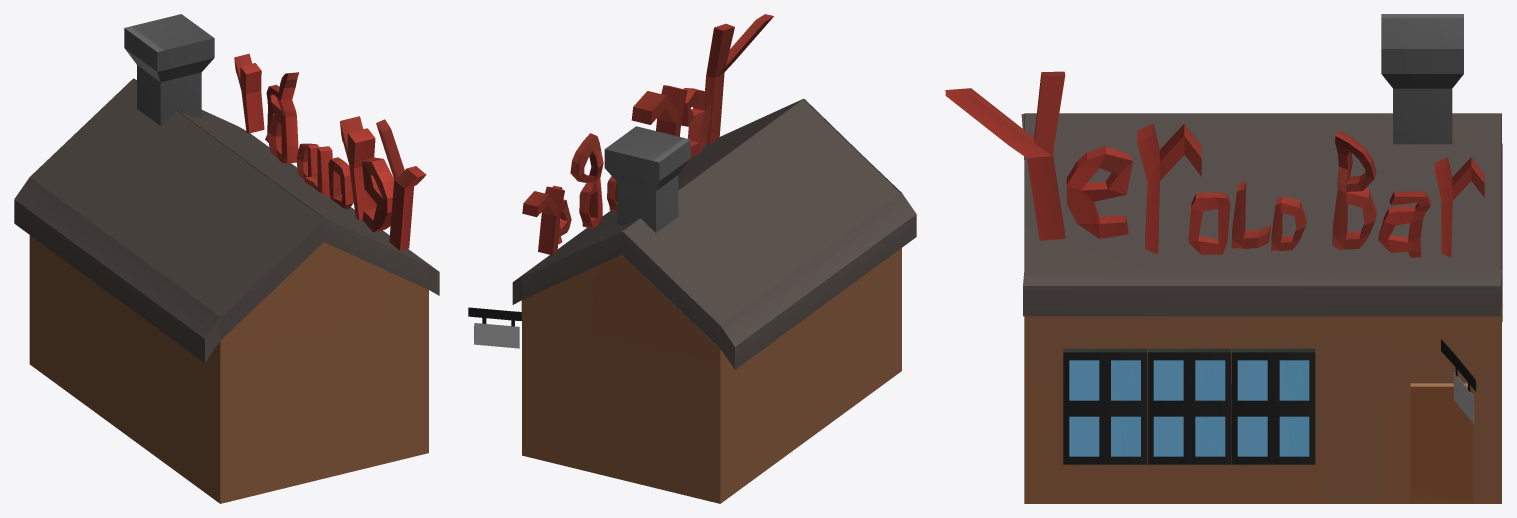
Rendered from Building_Bar.glb.
3 views of the same model, side by side, from view 1: azimuth 30°, elevation 25°; view 2: azimuth 150°, elevation 25°; view 3: azimuth 270°, elevation 25° (orthographic). The views are drawn at different scales.
Visible parts, largest first — view 1: Bar.col; view 2: Bar.col; view 3: Bar.col.
Boxes of the visible parts, x1,y1,x2,y2 form: Bar.col: [14, 14, 439, 503]; Bar.col: [468, 14, 916, 503]; Bar.col: [945, 14, 1502, 503].
Size of the model in its own units: 14.19 by 15.33 by 18.8.
1 material, 1 textured.
